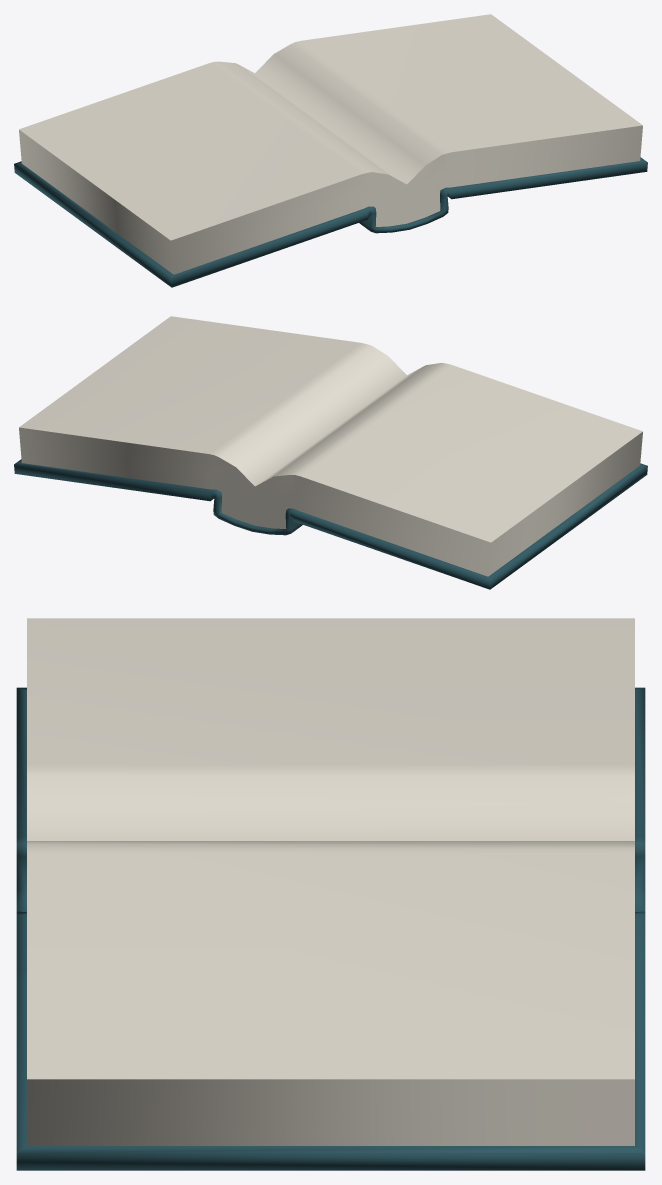
File: Book_Open.fbx
The picture shows the model from 3 angles, top to bottom: view 1: azimuth 30°, elevation 25°; view 2: azimuth 150°, elevation 25°; view 3: azimuth 270°, elevation 25°; orthographic projection. The views are drawn at different scales.
Parts seen in each view (by area): view 1: Book_Open; view 2: Book_Open; view 3: Book_Open.
Boxes of the visible parts, x1=… form: Book_Open: x1=14, y1=14, x2=647, y2=287; Book_Open: x1=14, y1=316, x2=647, y2=589; Book_Open: x1=16, y1=618, x2=645, y2=1170.
Bounding box in the file's own units: 41.63 × 5.4 × 23.76.
